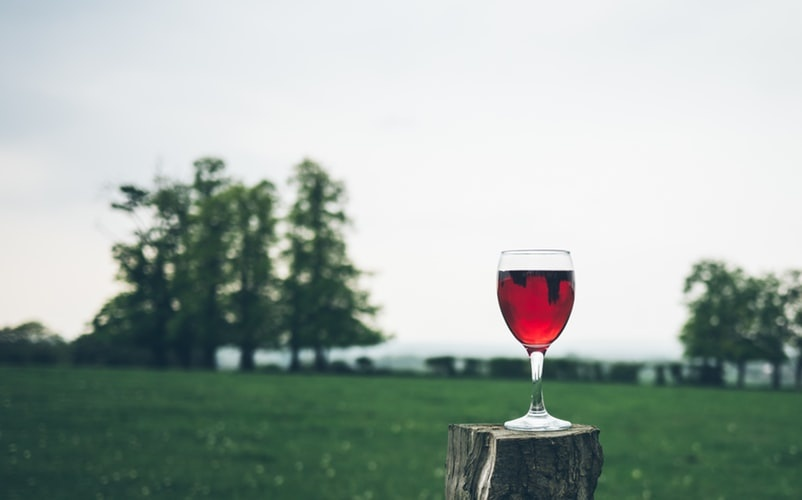whiskey: (485, 248, 578, 436)
